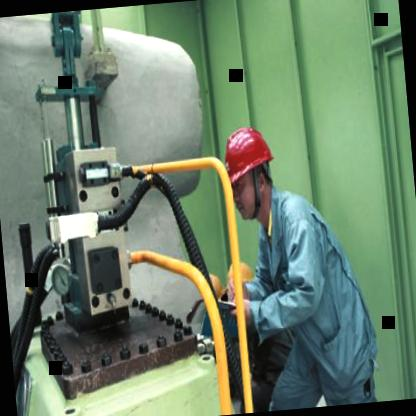helmet: (216, 110, 284, 226)
